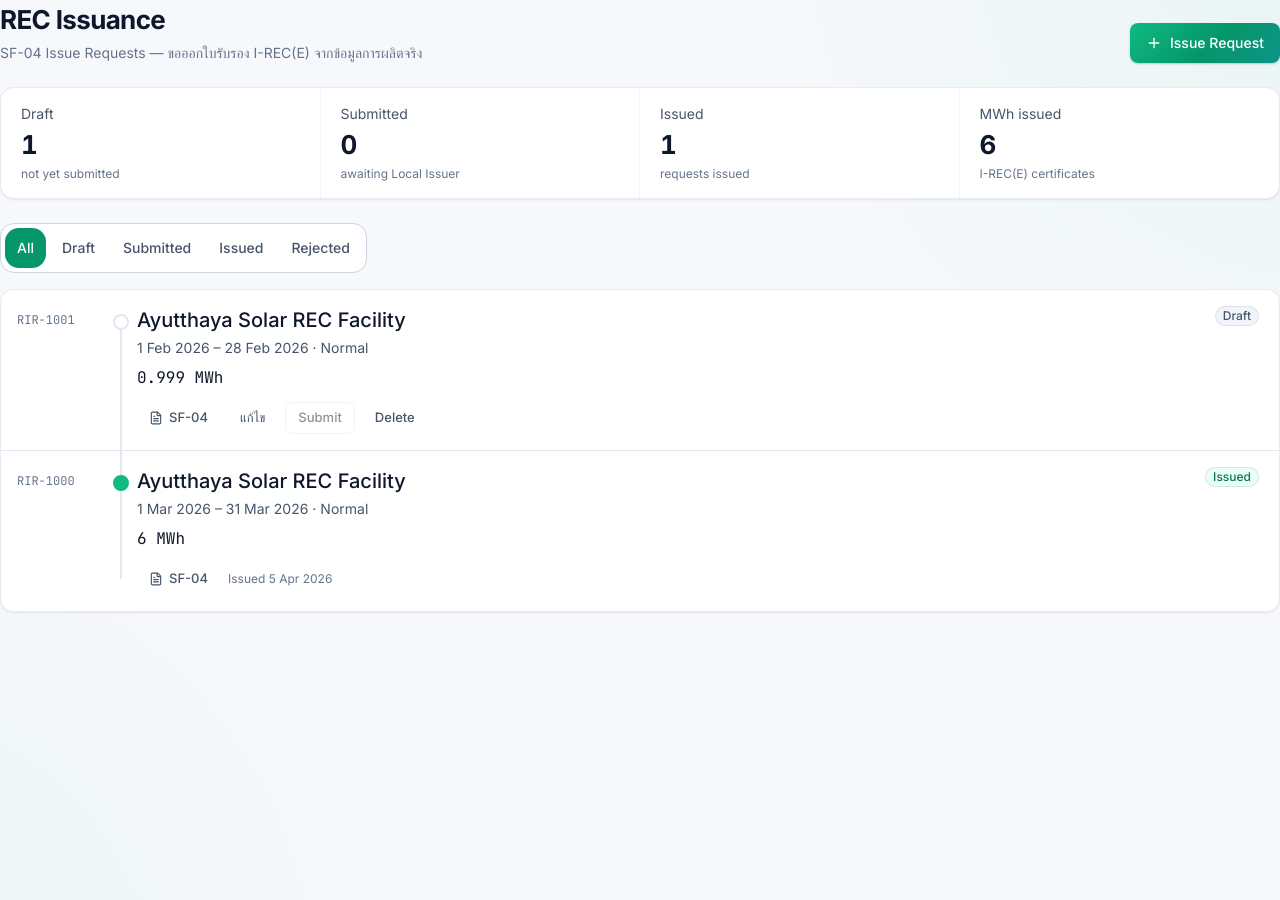
Test: REC Issuance page › period with no production data disables Save & Submit and shows the zero-MWh warning
Click the button "Issue Request": (1205, 43) [1130, 23, 1279, 63]
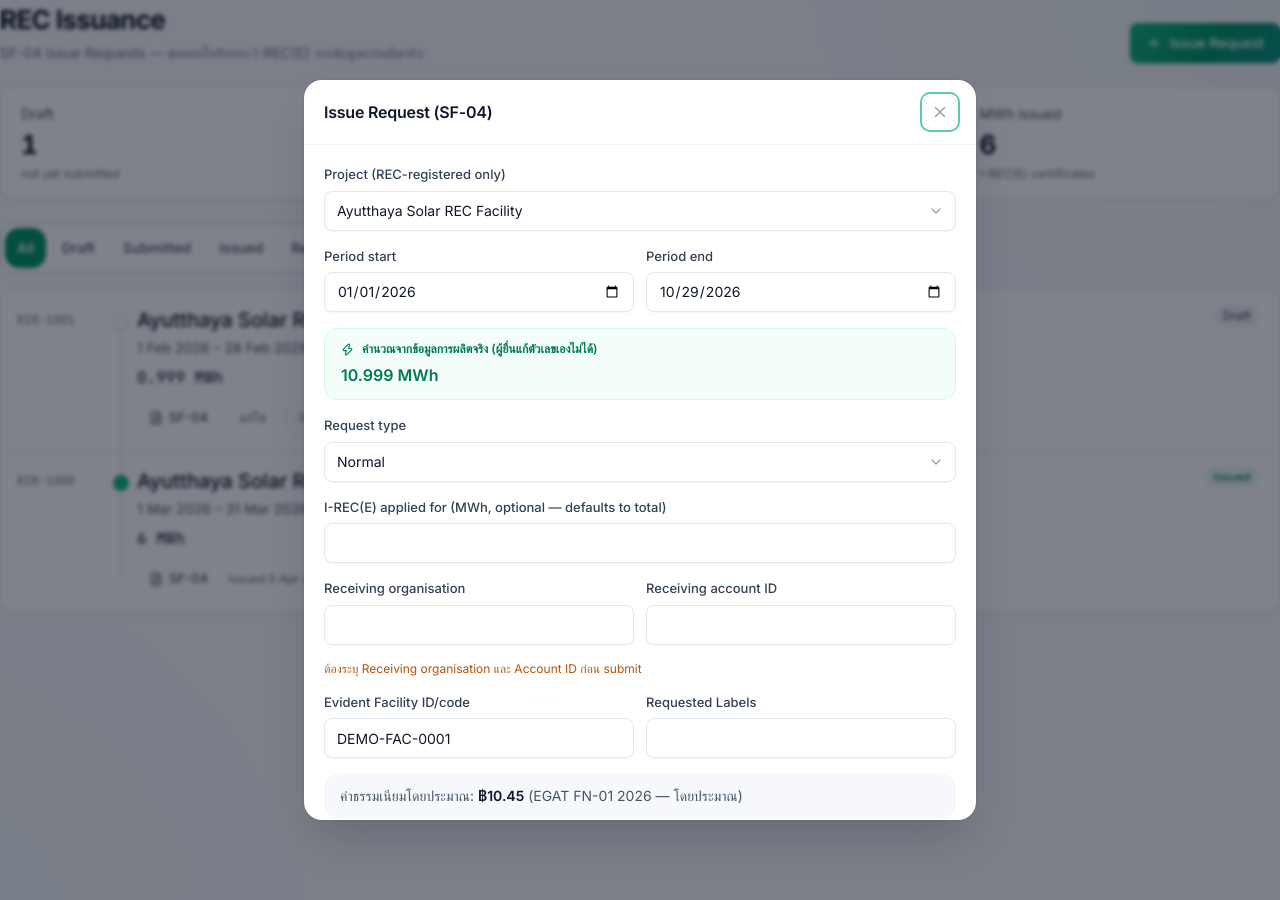
# prj-0010 (Ayutthaya Solar REC Facility) has no monitoring records in April 2026.
In the date field labelled "Period start": (479, 292) [324, 272, 634, 312], type "2026-04-01"
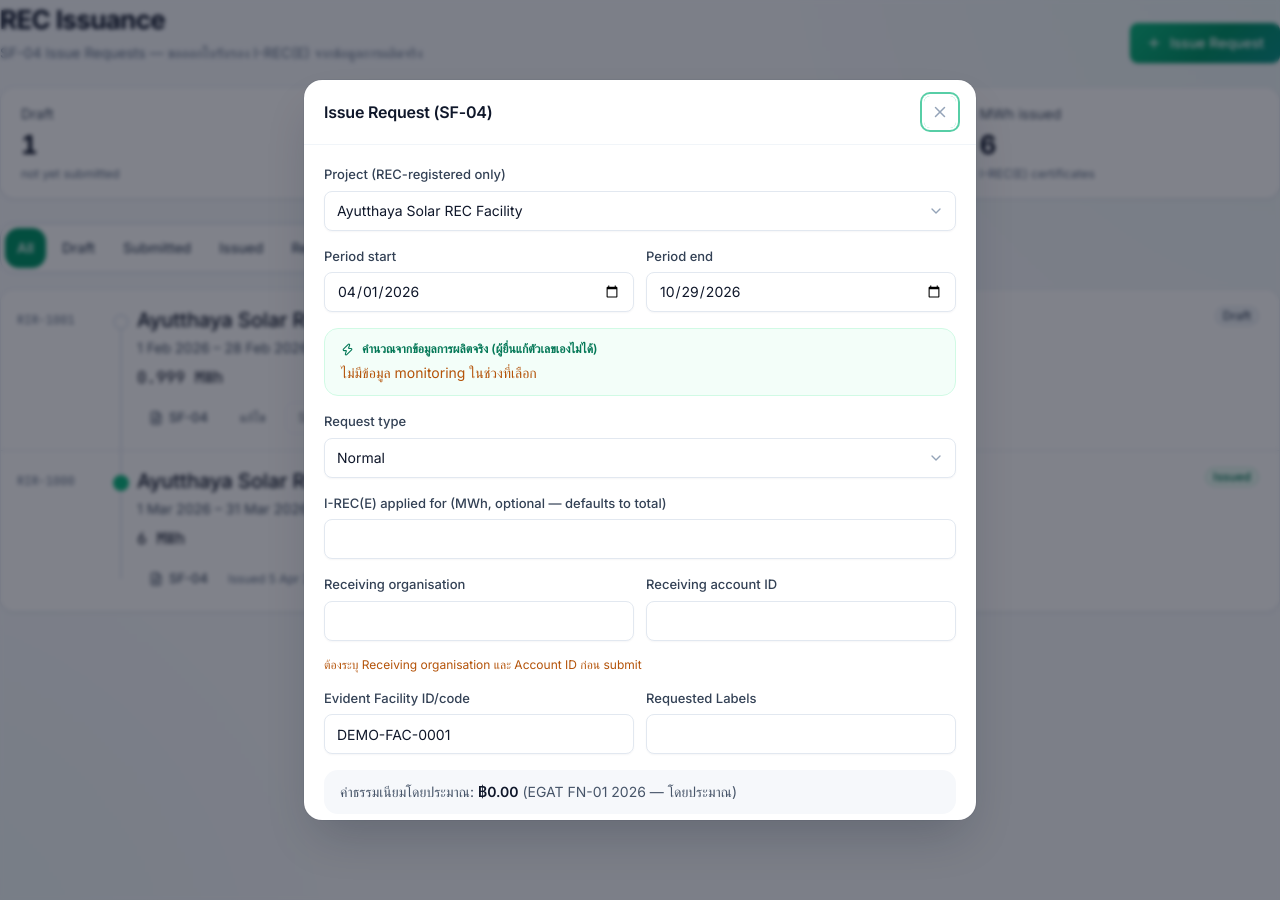
In the date field labelled "Period end": (801, 292) [646, 272, 956, 312], type "2026-04-30"
(page scrolled)
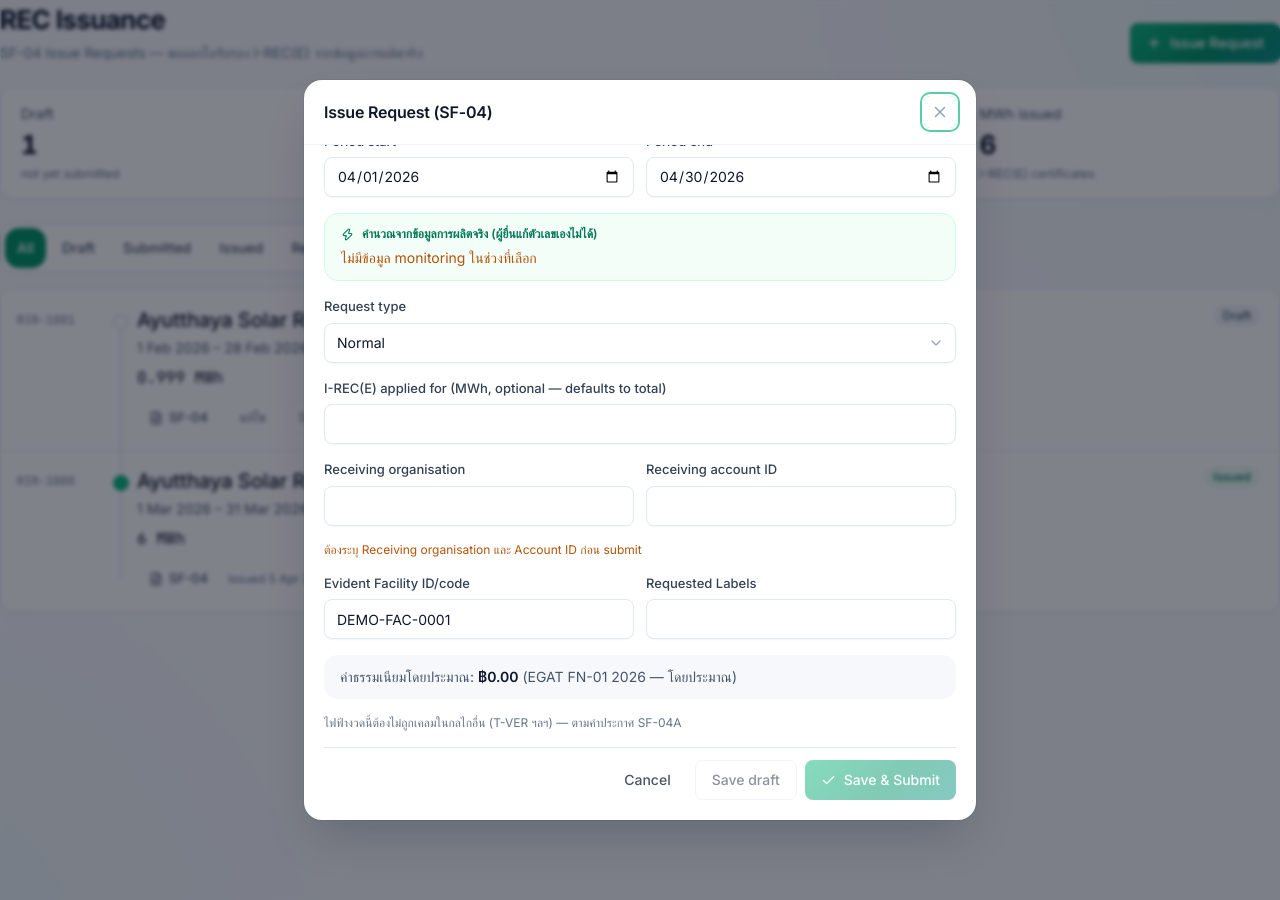
expect the text "ไม่มีข้อมูล monitoring ในช่วงที่เลือก" is shown: met, box [341, 249, 537, 266]
expect the button "Save & Submit" is disabled: met, box [805, 760, 956, 800]
